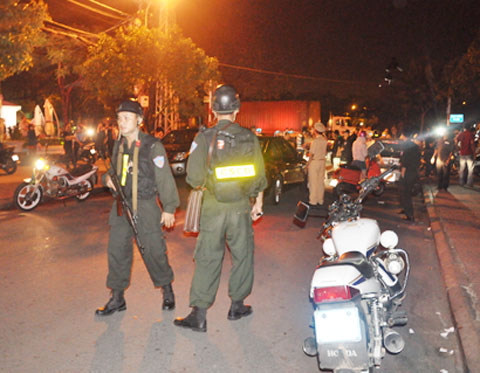police: (298, 120, 332, 210)
